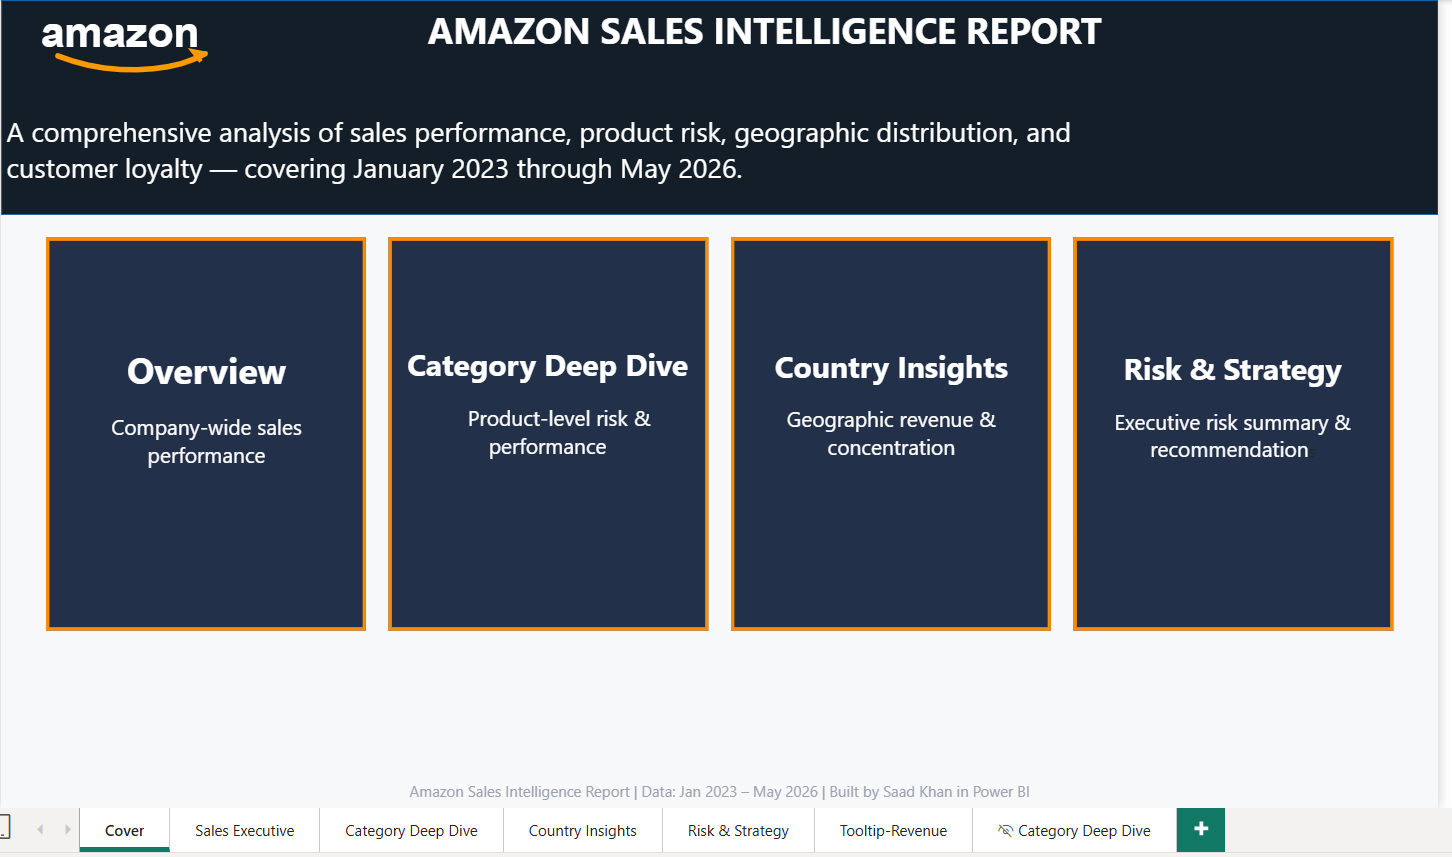

The page's visual inventory and layout, read from the dashboard file:
{"tool":"powerbi","page":{"name":"Cover","canvas":[1280,720],"ordinal":0},"visuals":[{"type":"shape","box":[0,0,1280.3,191.5],"z":0,"group":"g1"},{"type":"group","id":"g1","title":"Group 1","box":[0,0,1280.3,191.5],"z":0},{"type":"textbox","box":[0,95.8,966.2,95.8],"z":1},{"type":"shape","box":[40,211,285,350],"z":2,"group":"g5"},{"type":"shape","box":[650,211,285,350],"z":3,"group":"g3"},{"type":"shape","box":[345,211,285,350],"z":4,"group":"g2"},{"type":"shape","box":[955,211,285,350],"z":5,"group":"g4"},{"type":"textbox","box":[47.9,284.5,270.4,150.7],"z":6,"group":"g5"},{"type":"textbox","box":[352.1,301.4,270,150],"z":7,"group":"g2"},{"type":"textbox","box":[657.7,302.8,270,150],"z":8,"group":"g3"},{"type":"textbox","box":[962,304.2,270,150],"z":9,"group":"g4"},{"type":"group","id":"g2","title":"Group 3","box":[345,211,285,350],"z":11},{"type":"group","id":"g3","title":"Group 4","box":[650,211,285,350],"z":12},{"type":"group","id":"g4","title":"Group 5","box":[955,211,285,350],"z":13},{"type":"group","id":"g5","title":"Group 2","box":[40,211,285,350],"z":14},{"type":"textbox","box":[40,690,1200,30],"z":15},{"type":"image","box":[0,0,270.6,69.9],"z":1000,"group":"g1"},{"type":"textbox","box":[350.7,0,659.2,70.4],"z":2000,"group":"g1"}]}

Visuals, with their boxes in screenshot pixels (x1, y1, x2, y2):
shape: [0, 0, 1432, 210]
"Group 1" group: [0, 0, 1432, 210]
textbox: [0, 103, 1081, 211]
shape: [45, 232, 364, 624]
shape: [727, 232, 1046, 624]
shape: [386, 232, 705, 624]
shape: [1068, 232, 1387, 624]
textbox: [54, 314, 356, 483]
textbox: [394, 333, 696, 501]
textbox: [736, 335, 1038, 503]
textbox: [1076, 337, 1378, 504]
"Group 3" group: [386, 232, 705, 624]
"Group 4" group: [727, 232, 1046, 624]
"Group 5" group: [1068, 232, 1387, 624]
"Group 2" group: [45, 232, 364, 624]
textbox: [45, 768, 1387, 802]
image: [0, 0, 303, 74]
textbox: [392, 0, 1130, 75]
